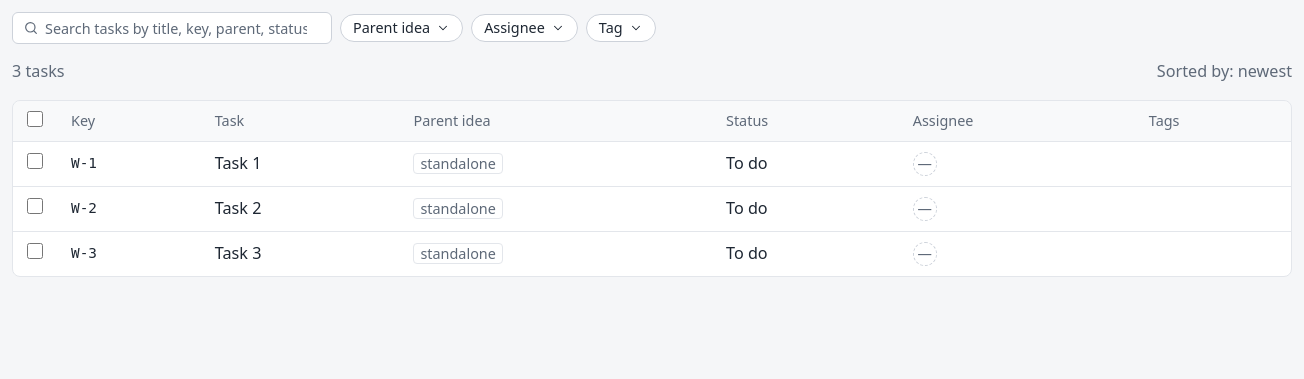
Test: Backlog selection bar for a User › lifts the refusal again once the foreign task is unticked
Click the checkbox named "Select W-1". click: click(35, 161)
box: [27,153,43,169]
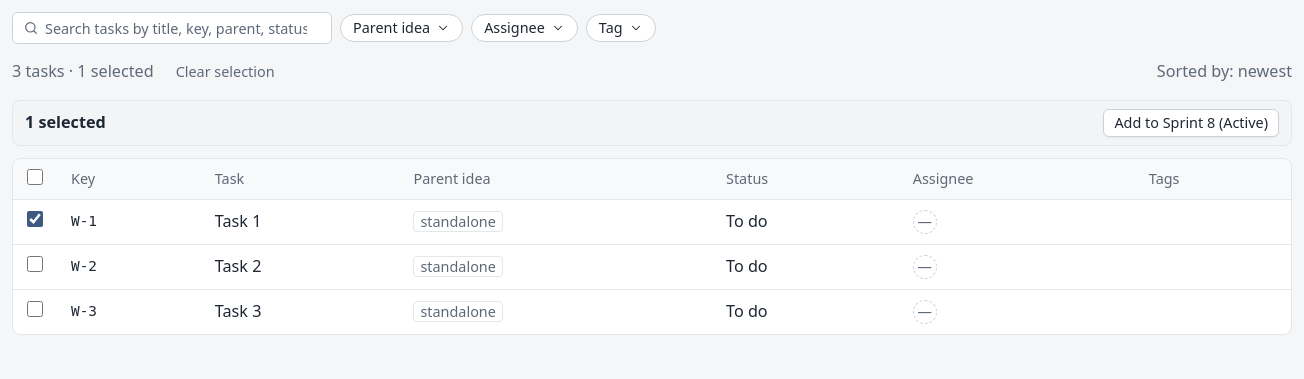
Click the checkbox named "Select W-3". click: click(35, 309)
box: [27,301,43,317]
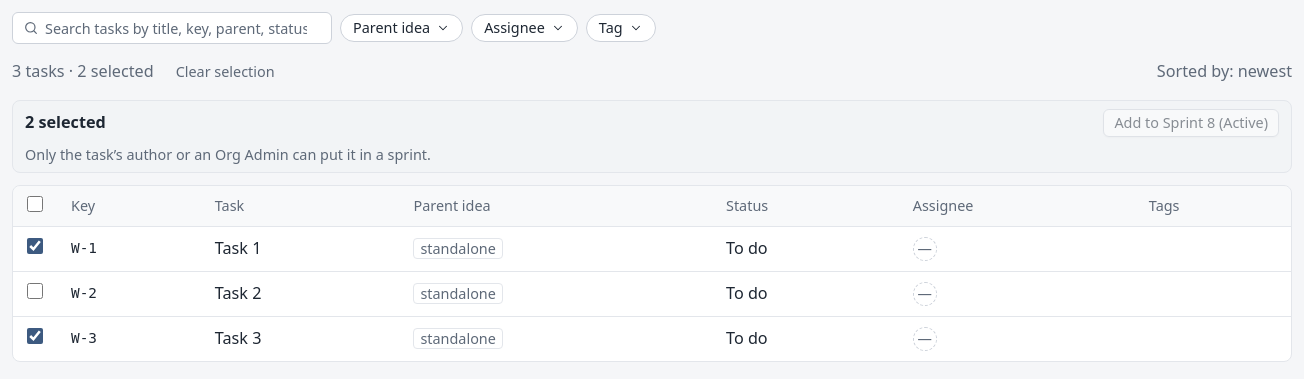
Click the checkbox named "Select W-3". click: click(35, 336)
box: [27,328,43,344]
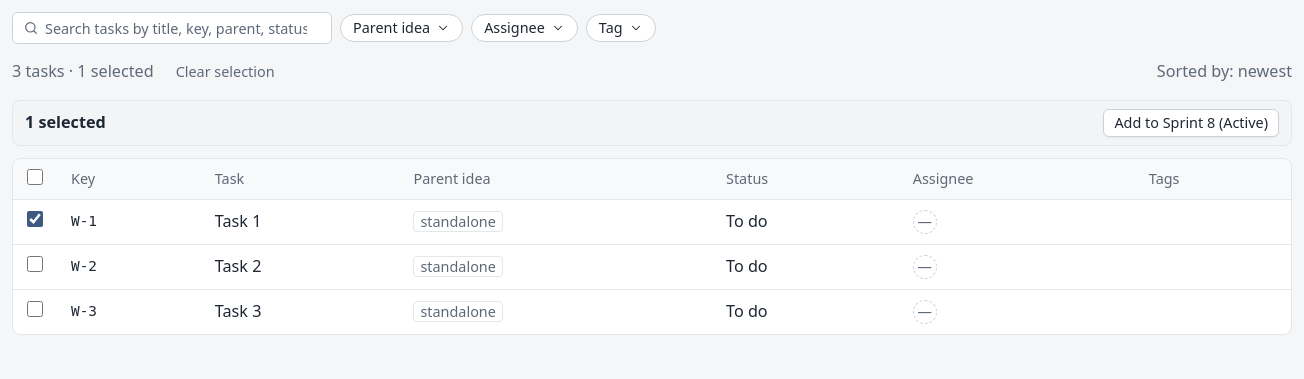
expect the text "Only the task’s author or an Org Admin can put it in a sprint." is gone: met
